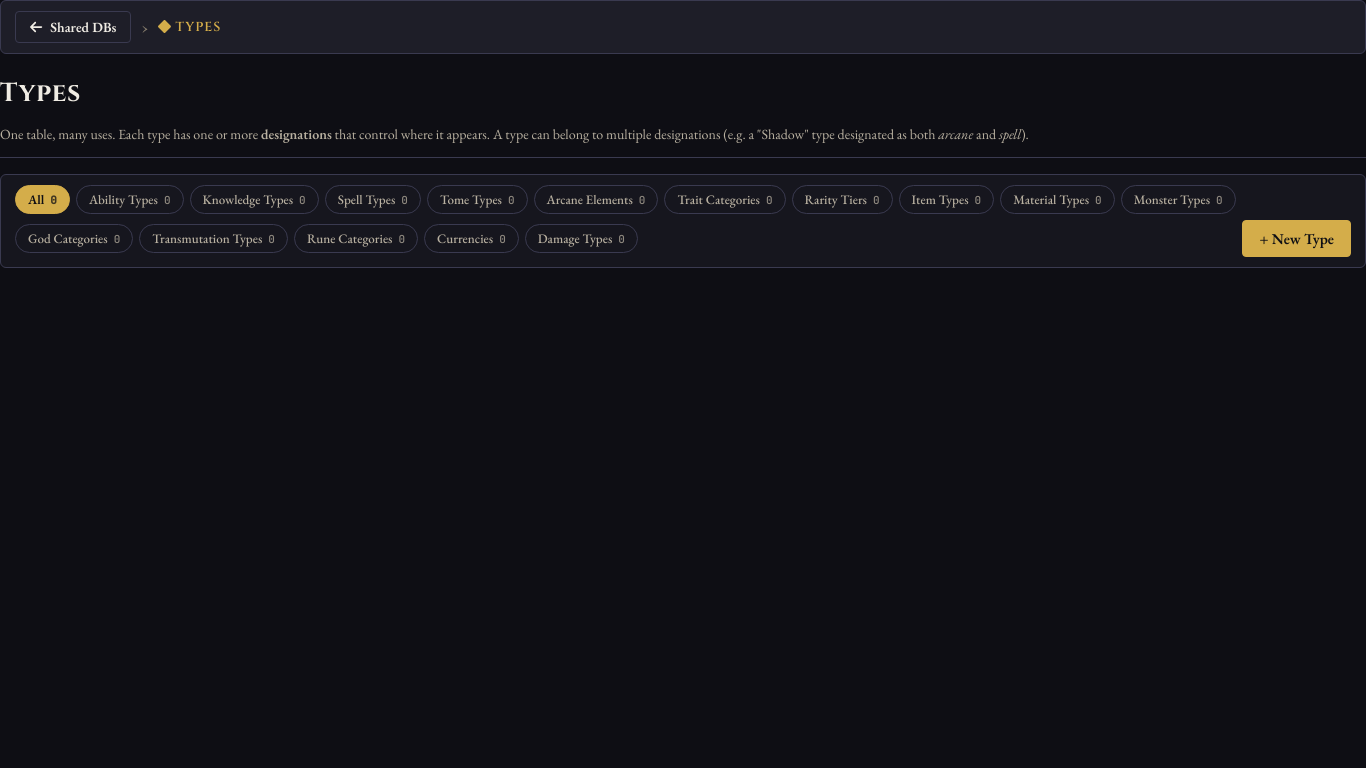
Test: TypesPage › opens new type modal
This screenshot has width=1366, height=768.
Click the button "+ New Type" at (1297, 239), box top-left (1242, 220), bottom-right (1351, 257)
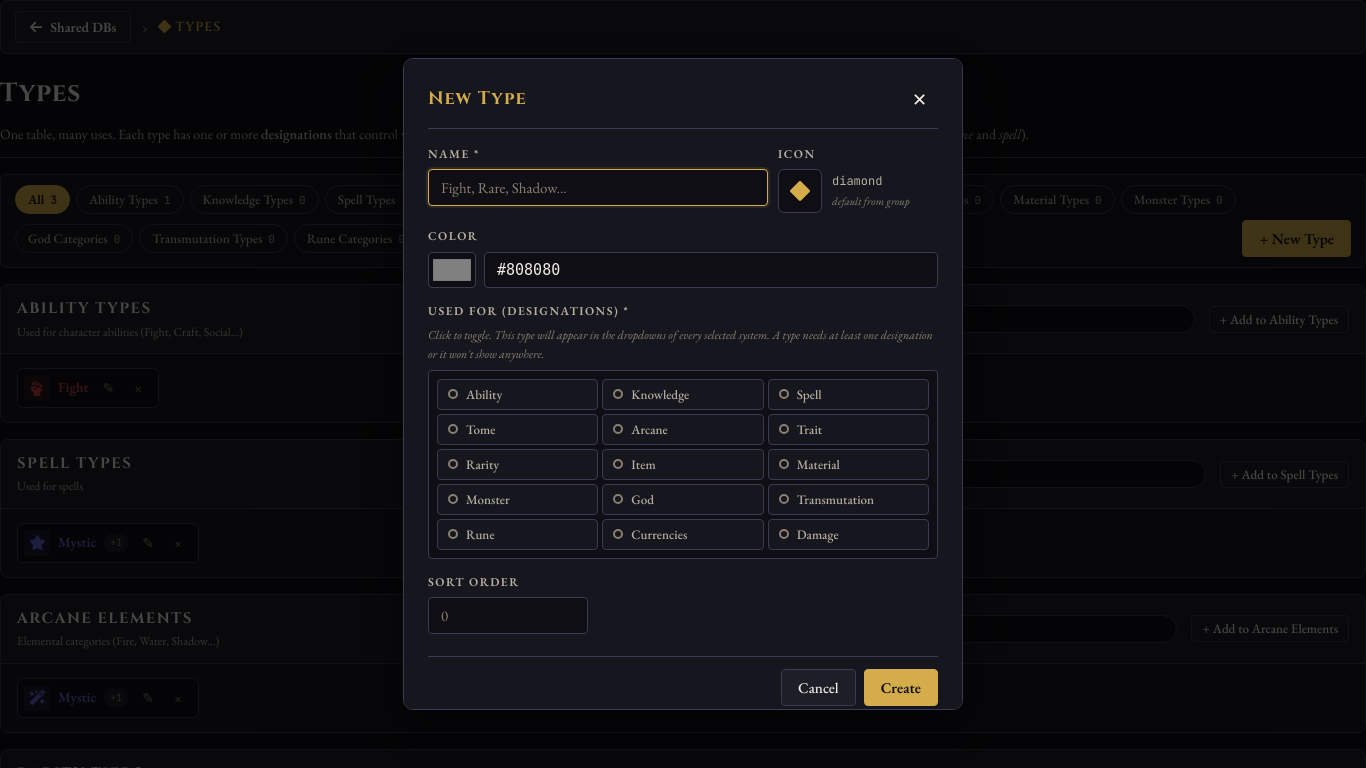
Result: the text "Name *" is shown at top-left (428, 146), bottom-right (480, 162)
